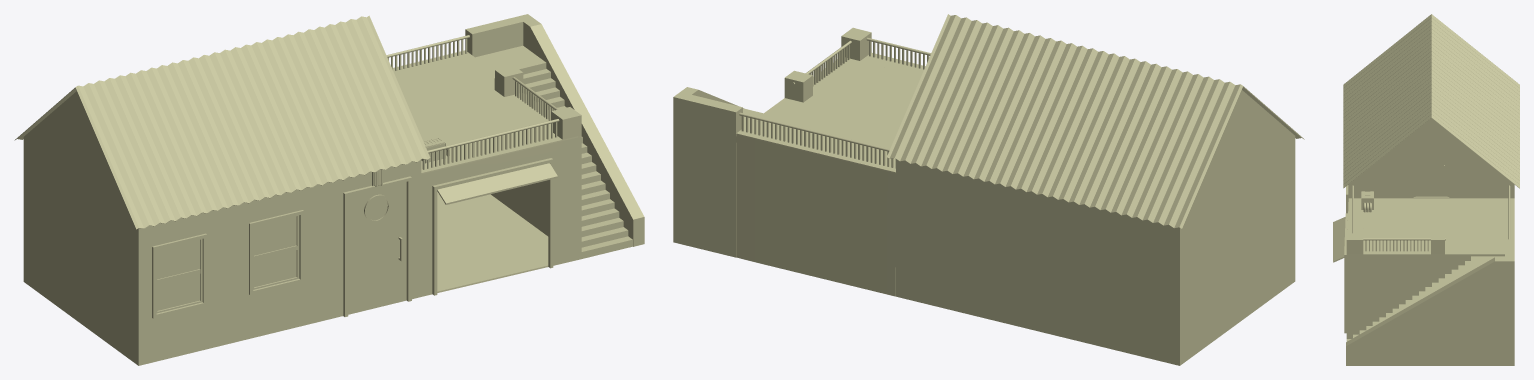
Rendered from House_2_1.fbx.
3 views of the same model, side by side, from view 1: azimuth 30°, elevation 25°; view 2: azimuth 150°, elevation 25°; view 3: azimuth 270°, elevation 25° (orthographic). The views are drawn at different scales.
Parts seen in each view (by area): view 1: Plane.024; view 2: Plane.024; view 3: Plane.024.
Part boxes in pixels (x1,y1,x2,y2): Plane.024: [14, 14, 644, 365]; Plane.024: [673, 14, 1304, 365]; Plane.024: [1333, 14, 1519, 365].
Bounding box in the file's own units: 1878 × 841 × 823.
